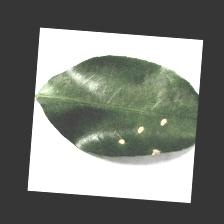canker: (102, 110, 195, 164)
